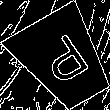P_SE: (32, 29, 95, 91)
